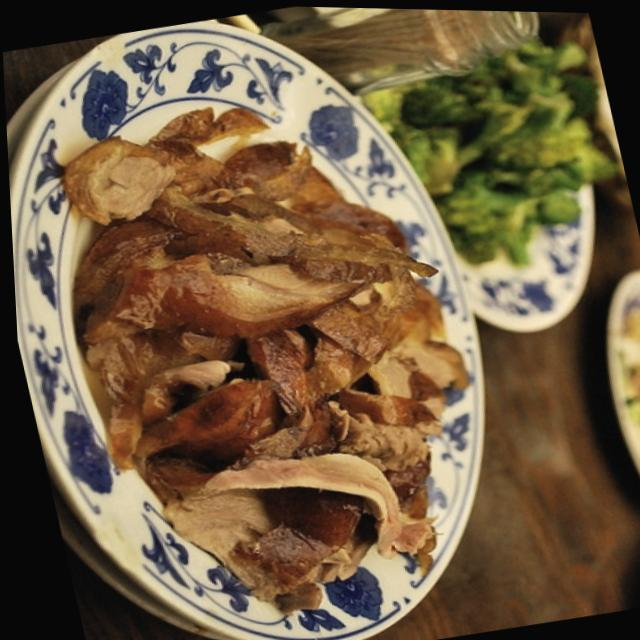烧串烤肉: (20, 27, 511, 640)
